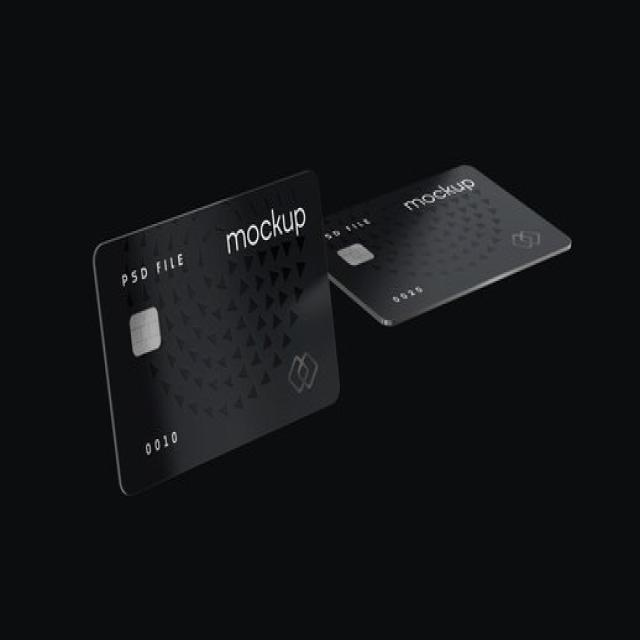payment_card: (90, 168, 341, 496), (323, 164, 571, 326)
